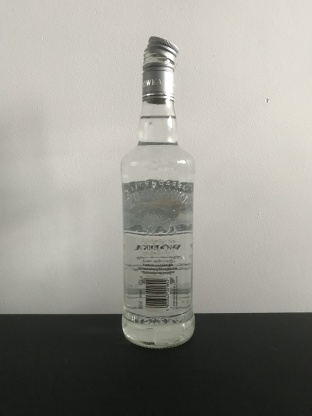nakretka: (140, 33, 180, 104)
